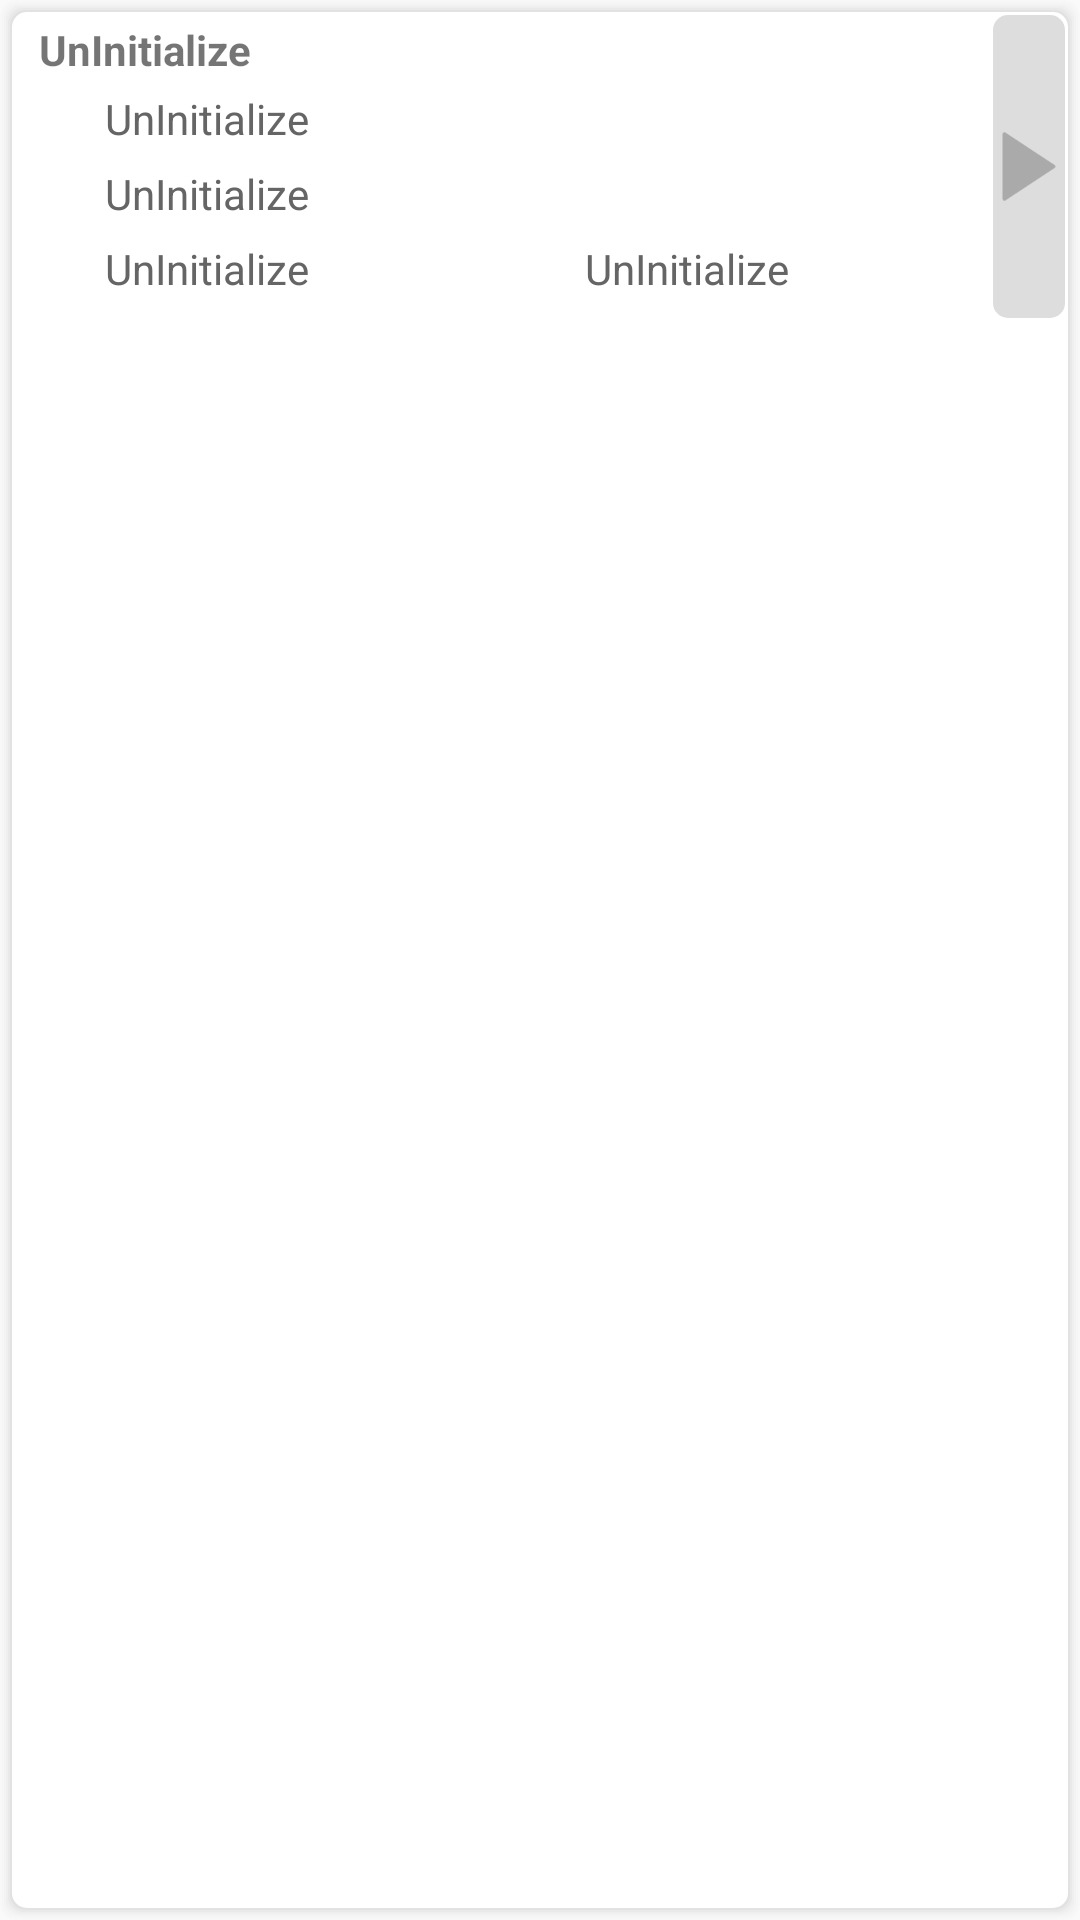

Where to tap for icons on this 1080×1920 app screen, as (x=x, y=y):
run: (x=1029, y=166)
